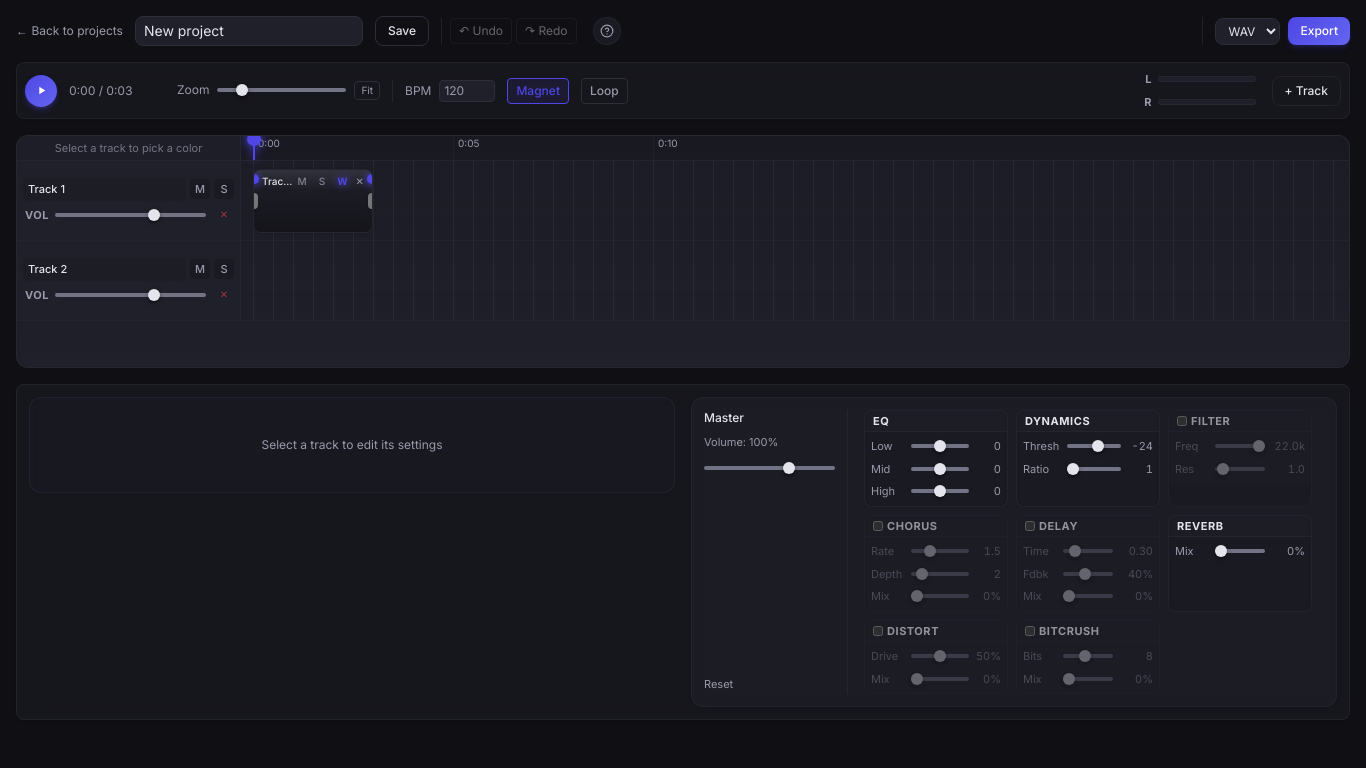
Test case: waits for one shared warp before exporting the captured clip and tempo
What coordinates should you click on to do the following:
click the button "Export"
I would click on:
 (1319, 31)
Its box is top-left (1288, 17), bottom-right (1350, 45).
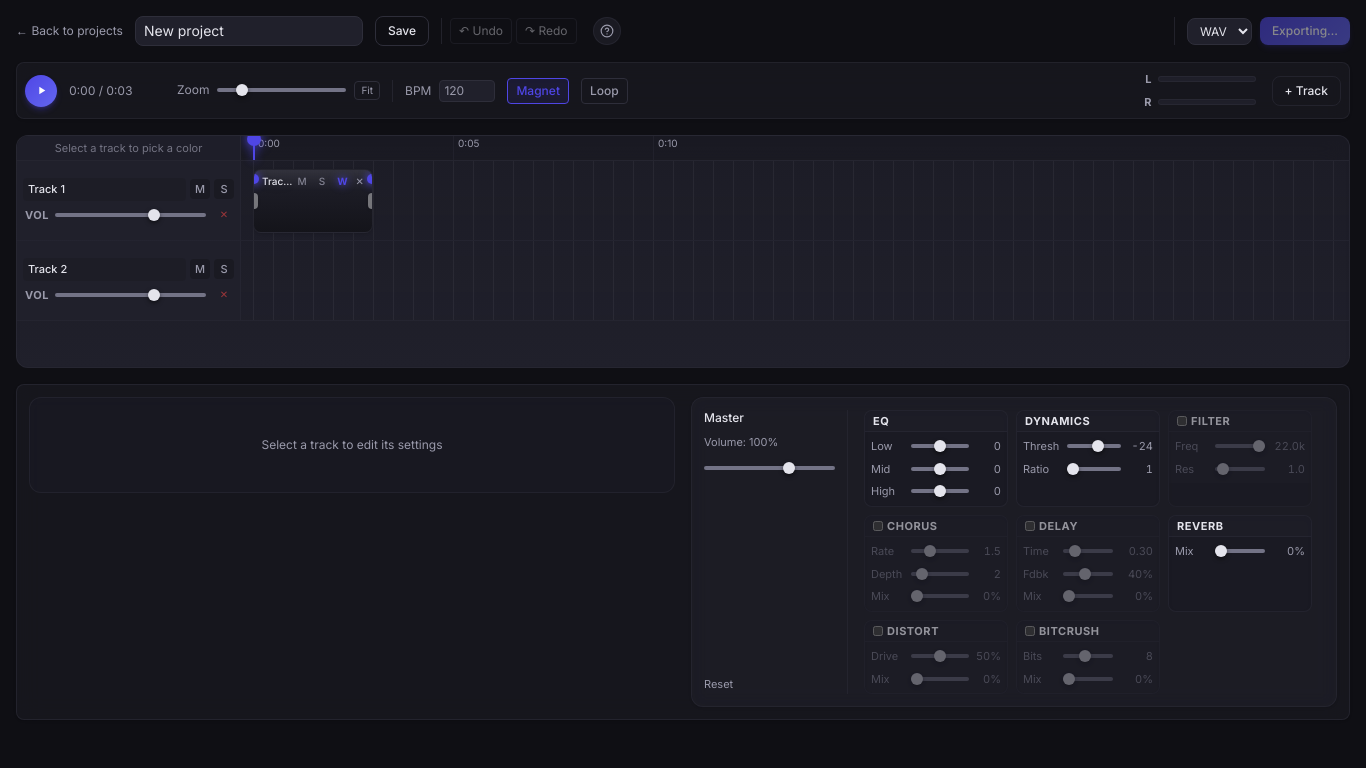
Check: the button "Exporting…" is disabled, box top-left (1260, 17), bottom-right (1350, 45)
